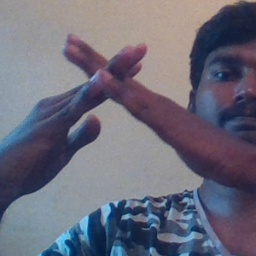W: (50, 24, 170, 158)
